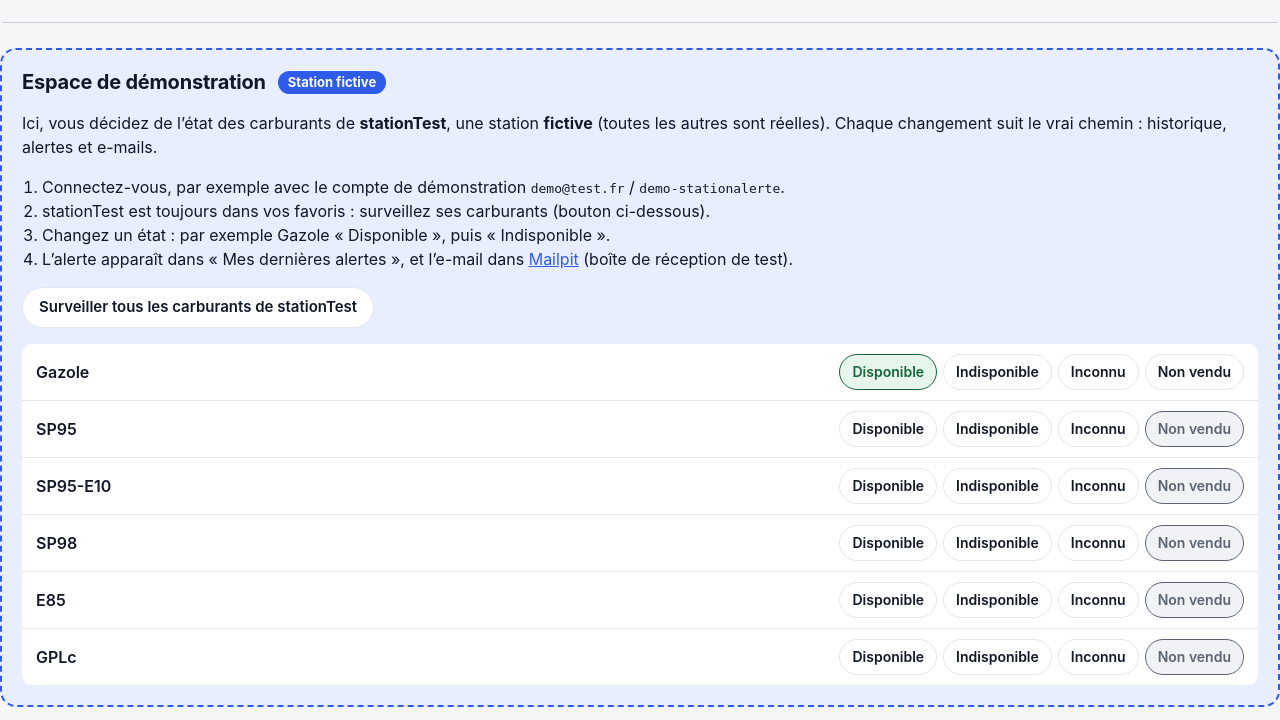
DemoPanel › change un état, affiche le résultat et prévient la page
Expected: the heading "Espace de démonstration" is shown, x1=22 y1=70 x2=266 y2=95
Click the 1st button "Indisponible" at (997, 372), box x1=943 y1=354 x2=1052 y2=390
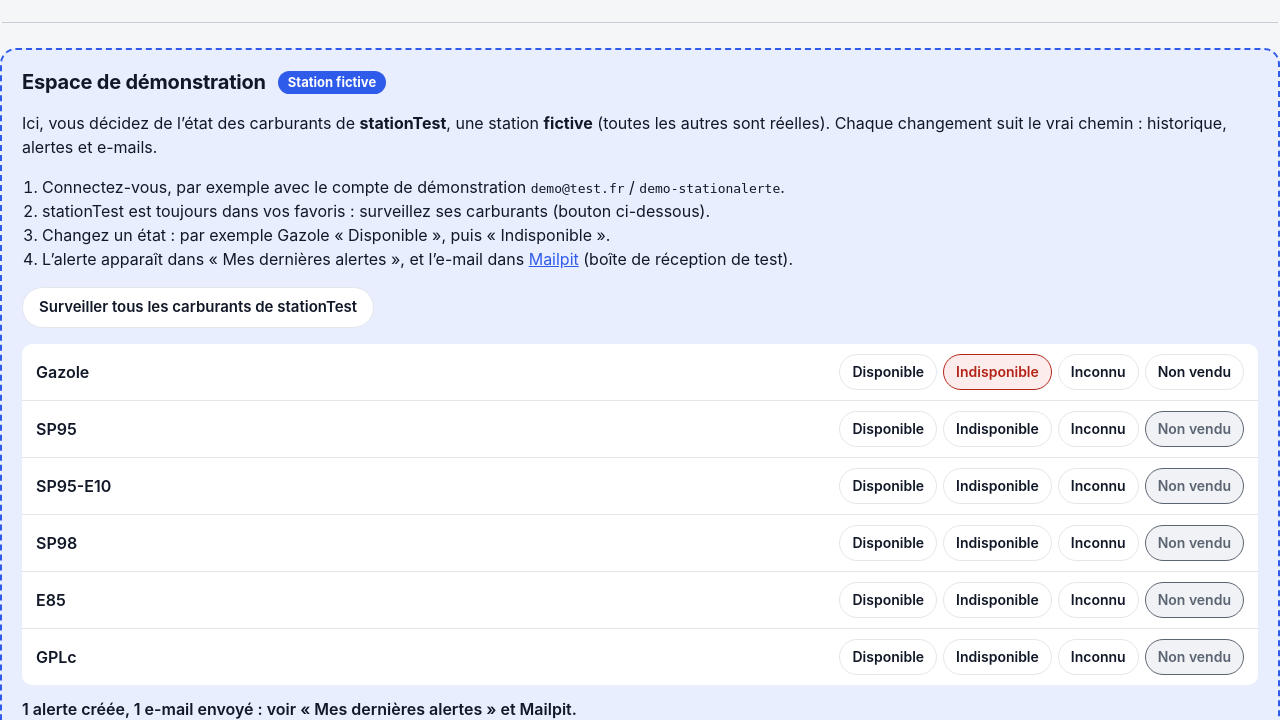
Now the message shows "1 alerte créée, 1 e-mail envoyé", box x1=22 y1=698 x2=577 y2=718
